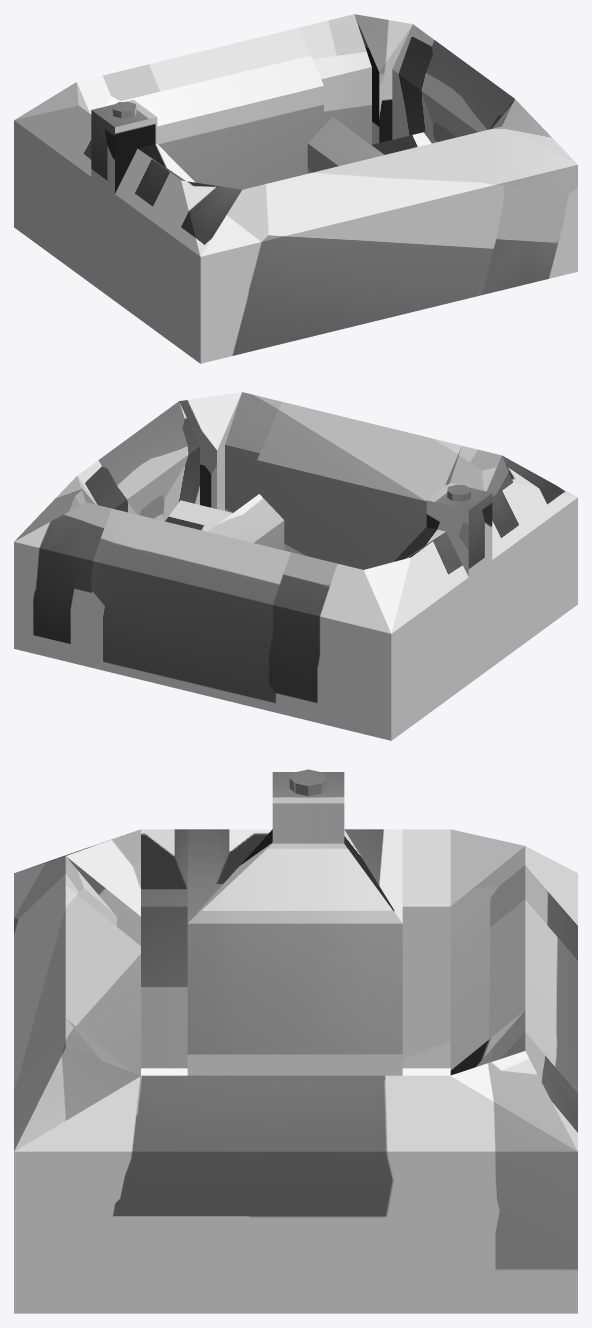
The model's file is beuth1.1_groesser.dae.
3 views of the same model, one above another, from view 1: azimuth 30°, elevation 25°; view 2: azimuth 150°, elevation 25°; view 3: azimuth 270°, elevation 25° (orthographic). The views are drawn at different scales.
Parts seen in each view (by area): view 1: Mesh; view 2: Mesh; view 3: Mesh.
Part boxes in pixels (left/top/right/bottom): Mesh: left=14, top=14, right=577, bottom=363; Mesh: left=14, top=392, right=577, bottom=740; Mesh: left=14, top=769, right=577, bottom=1313.
Size of the model in its own units: 36.23 by 31 by 16.56.
2 materials, 2 textured.
